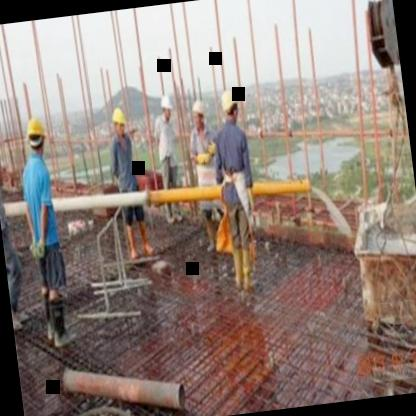helmet: (20, 113, 48, 158), (219, 85, 242, 125), (107, 104, 130, 138), (158, 93, 175, 122), (190, 98, 208, 124)
